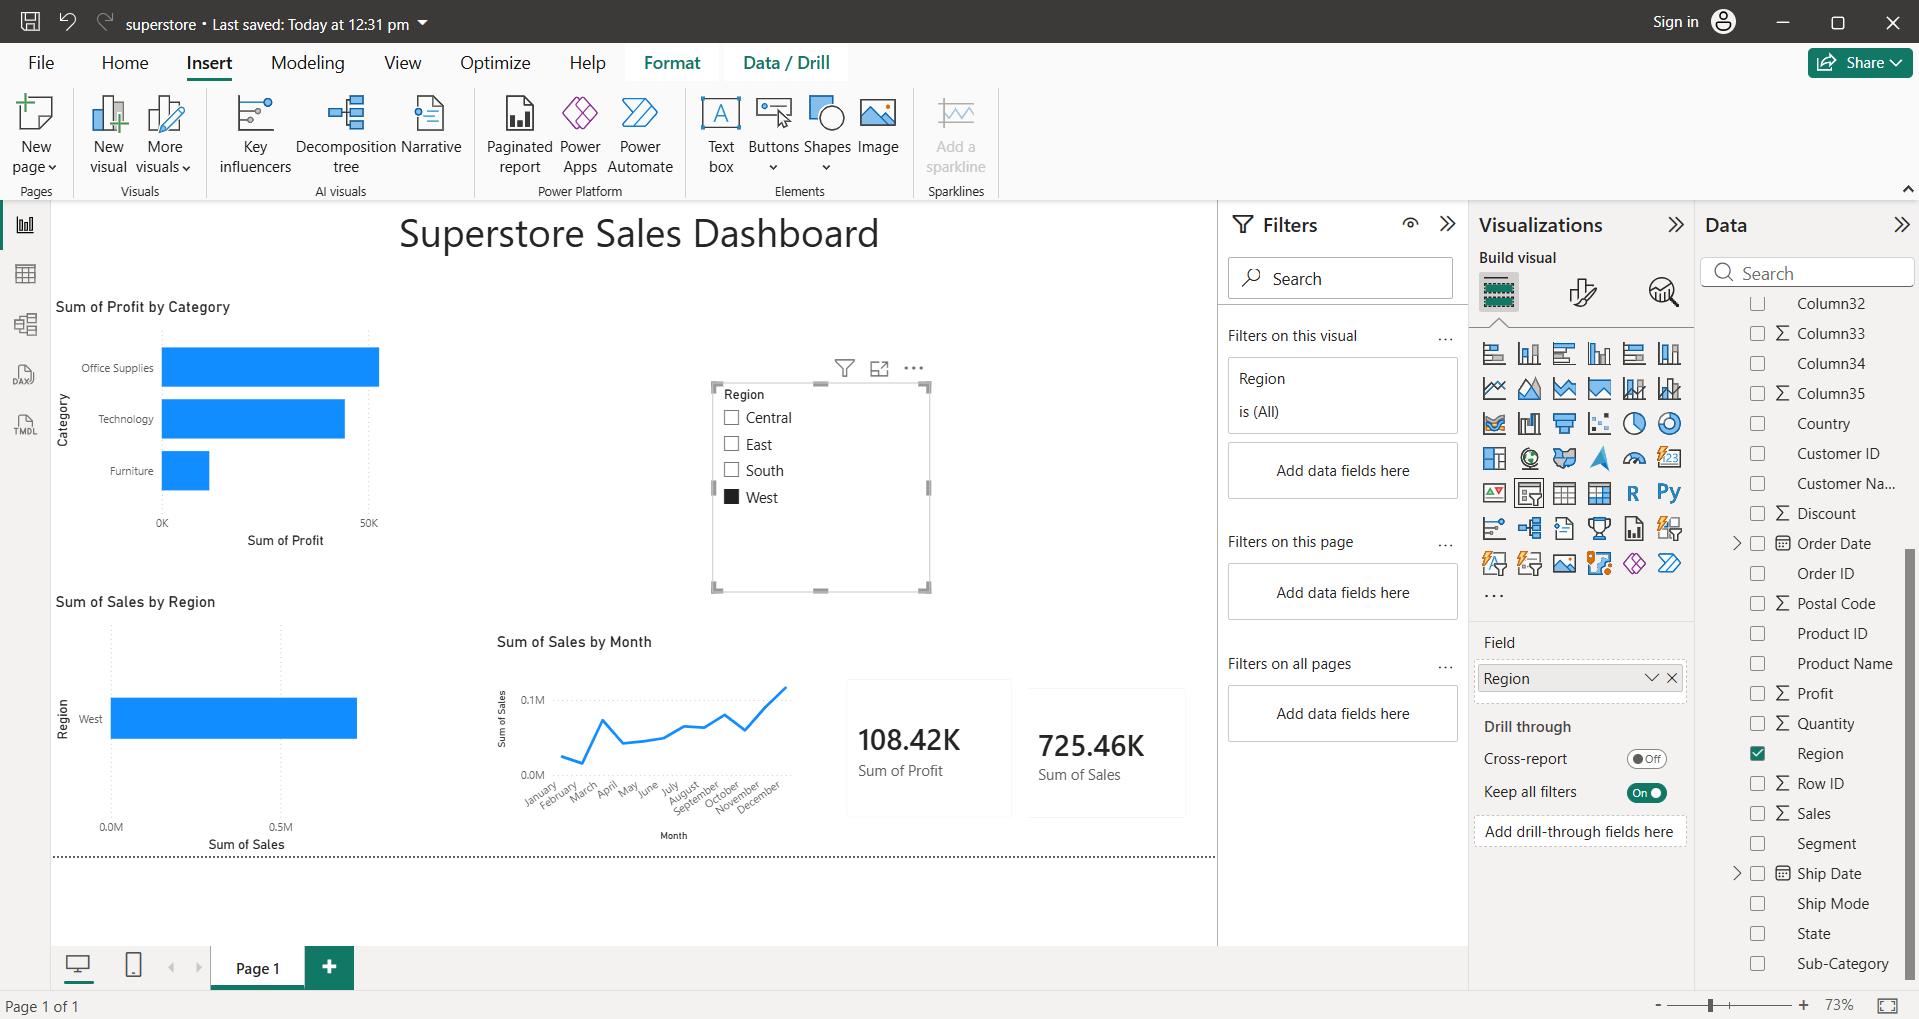

This screenshot's page, from the dashboard's own definition file:
{"tool":"powerbi","page":{"name":"Page 1","canvas":[1280,720],"ordinal":0},"visuals":[{"type":"barChart","fields":{"Y":["Sum(Sample - Superstore.Sales)"],"Category":["Sample - Superstore.Region"]},"box":[0,430.9,382.8,289.5],"z":0},{"type":"barChart","fields":{"Y":["Sum(Sample - Superstore.Profit)"],"Category":["Sample - Superstore.Category"]},"box":[0,107,408.9,279.9],"z":1000},{"type":"lineChart","fields":{"Category":["Sample - Superstore.Order Date.Variation.Date Hierarchy.Month"],"Y":["Sum(Sample - Superstore.Sales)"]},"box":[484.4,474.8,336.2,234.6],"z":2000},{"type":"slicer","fields":{"Values":["Sample - Superstore.Region"]},"box":[725.9,200.3,238.8,230.5],"z":3000},{"type":"cardVisual","fields":{"Data":["Sum(Sample - Superstore.Sales)"]},"box":[1053.9,518.7,209.9,177],"z":4000},{"type":"cardVisual","fields":{"Data":["Sum(Sample - Superstore.Profit)"]},"box":[856.3,509.1,216.8,186.6],"z":5000},{"type":"textbox","box":[262.1,0,779.4,94.7],"z":6000}]}

Visuals, with their boxes on the page's 1280x720 design canvas (x1, y1, x2, y2). These are canvas units, not pixel positions in the 1919x1019 screenshot, which may show the page scaled, cropped or inside an application window:
barChart - Sum(Sample - Superstore.Sales) x Sample - Superstore.Region: {"left": 0, "top": 431, "right": 383, "bottom": 720}
barChart - Sum(Sample - Superstore.Profit) x Sample - Superstore.Category: {"left": 0, "top": 107, "right": 409, "bottom": 387}
lineChart - Sample - Superstore.Order Date.Variation.Date Hierarchy.Month x Sum(Sample - Superstore.Sales): {"left": 484, "top": 475, "right": 821, "bottom": 709}
slicer - Sample - Superstore.Region: {"left": 726, "top": 200, "right": 965, "bottom": 431}
cardVisual - Sum(Sample - Superstore.Sales): {"left": 1054, "top": 519, "right": 1264, "bottom": 696}
cardVisual - Sum(Sample - Superstore.Profit): {"left": 856, "top": 509, "right": 1073, "bottom": 696}
textbox: {"left": 262, "top": 0, "right": 1042, "bottom": 95}
